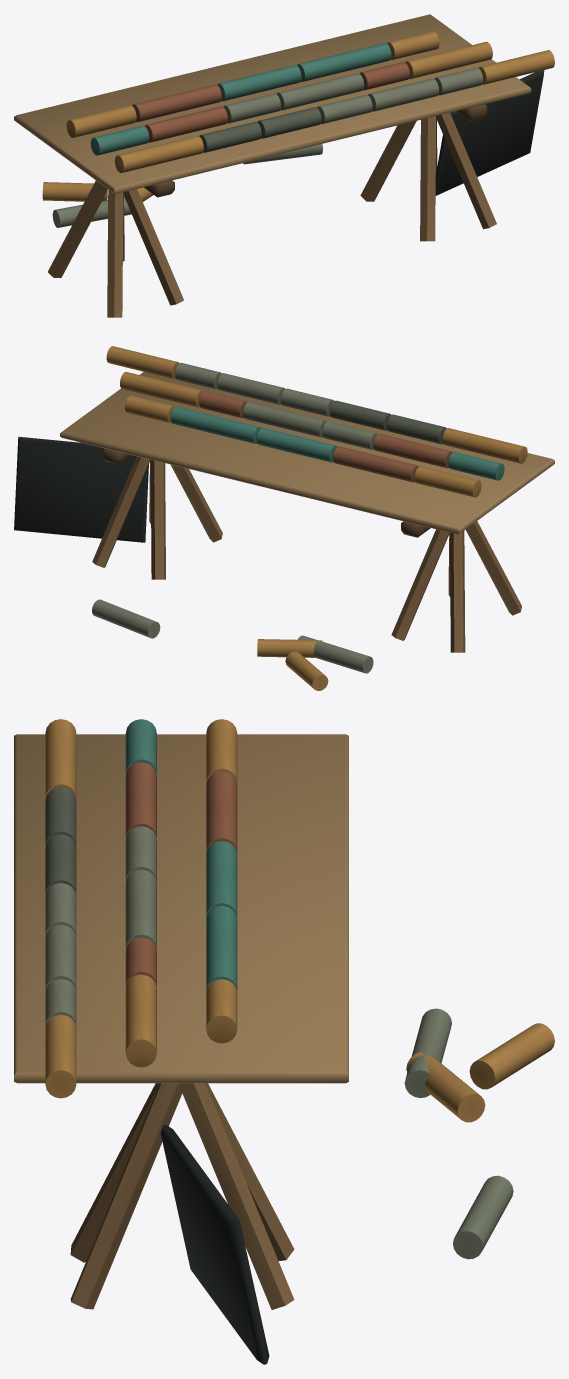
Rendered from core_rack_b.glb.
3 renders of one model, top to bottom at view 1: azimuth 30°, elevation 25°; view 2: azimuth 150°, elevation 25°; view 3: azimuth 270°, elevation 25°, orthographic. The views are drawn at different scales.
Parts seen in each view (by area): view 1: Surface; view 2: Surface; view 3: Surface.
Boxes of the visible parts, left/top/right/bottom form: Surface: left=14, top=14, right=554, bottom=317; Surface: left=14, top=346, right=554, bottom=690; Surface: left=14, top=719, right=554, bottom=1364.
Bounding box in the file's own units: 2.85 × 0.9338 × 1.61.
